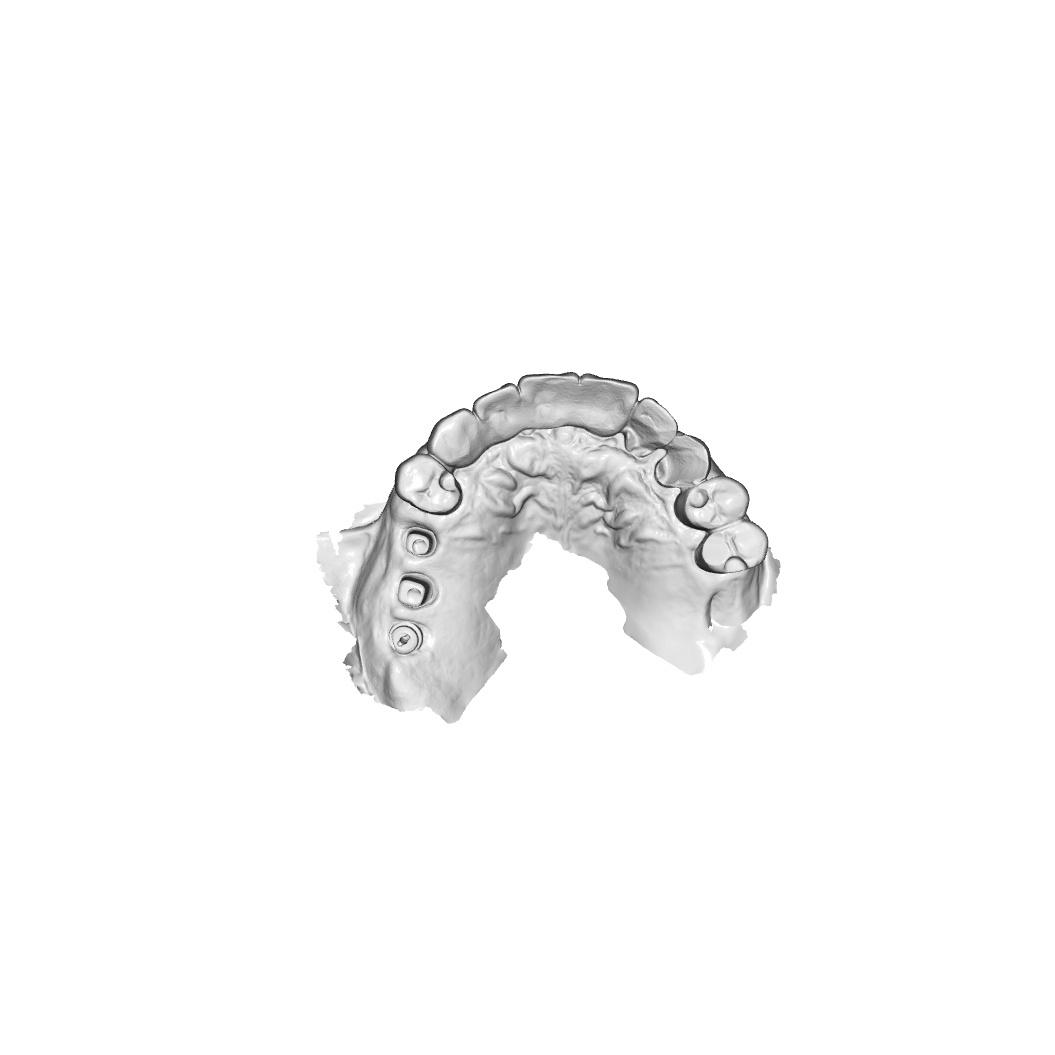abutment: (395, 573, 436, 611), (402, 526, 438, 560)
canine: (426, 406, 484, 469), (654, 434, 712, 489)
implant_minus: (385, 620, 424, 656)
incisor: (580, 372, 640, 438), (517, 371, 580, 431), (623, 396, 679, 458), (472, 382, 521, 441)
premolar: (393, 452, 464, 517), (673, 473, 751, 531), (694, 517, 769, 576)
